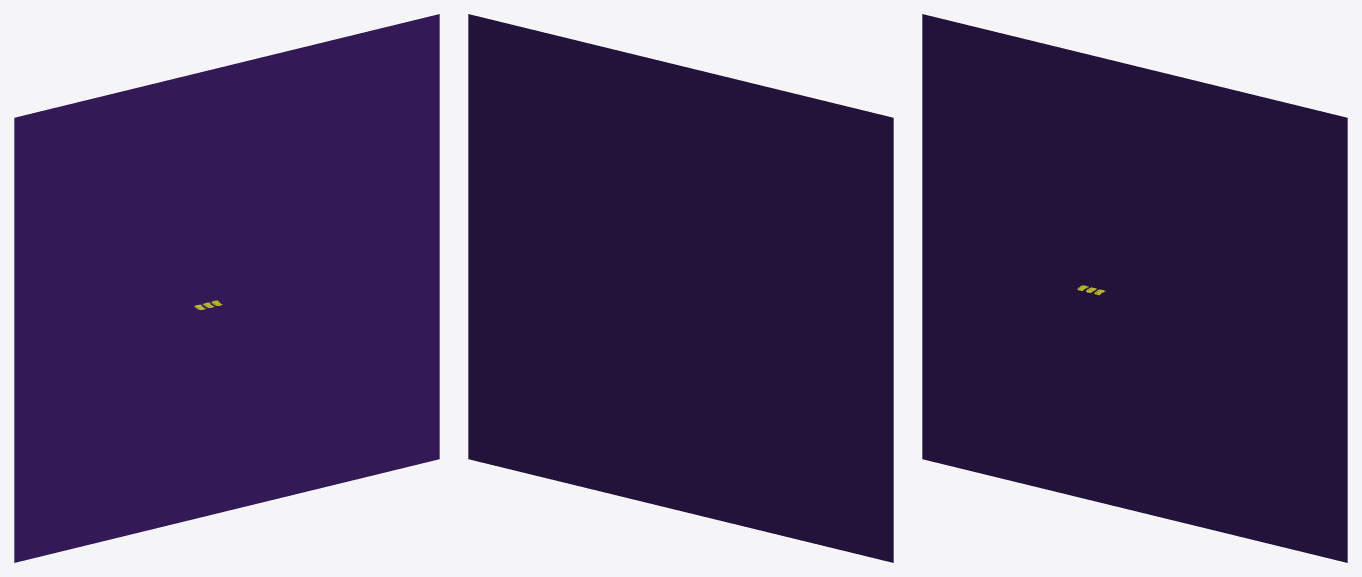
File: restartPauseMenuButton.obj
3 renders of one model, left to right at view 1: azimuth 30°, elevation 25°; view 2: azimuth 150°, elevation 25°; view 3: azimuth 330°, elevation 25°, orthographic.
Visible parts, largest first — view 1: restartPauseMenuButton; view 2: restartPauseMenuButton; view 3: restartPauseMenuButton.
Part boxes in pixels (x1,y1,x2,y2): restartPauseMenuButton: (14, 14, 439, 562); restartPauseMenuButton: (468, 14, 893, 562); restartPauseMenuButton: (922, 14, 1347, 562).
Bounding box in the file's own units: 2 × 2 × 0.1315.
